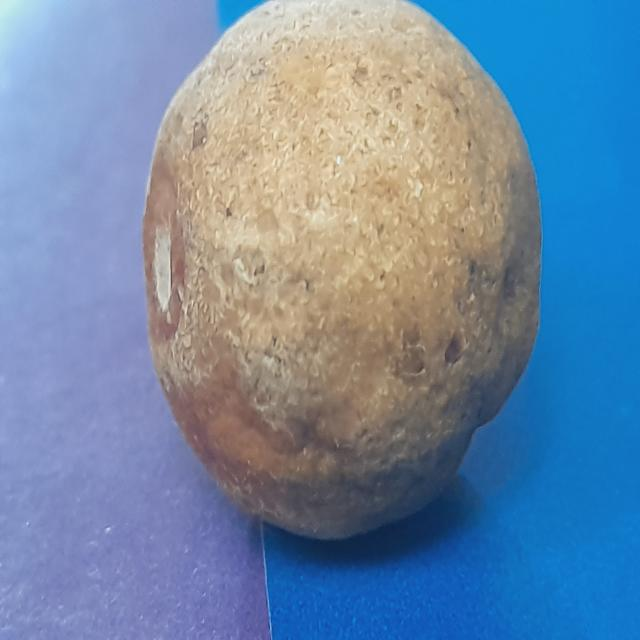thrips: (138, 6, 546, 518)
